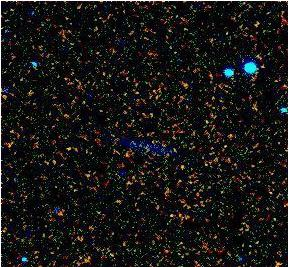star: (164, 156, 194, 186)
